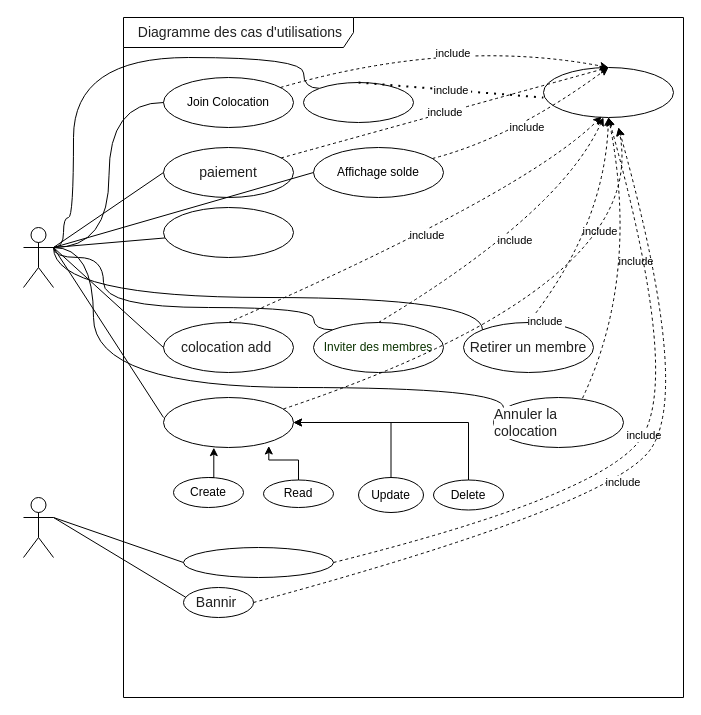
Image size: 701x715. Some labels were removed from this diagram. The centre of each missing label's shape, as x and y in pixels:
"add solde" goes at [358,102].
"Auth" goes at [608,92].
"Global Admin" goes at [38,527].
"Gérer les catégories" goes at [228,422].
"Quitter une colocation" goes at [228,232].
"statistiques" goes at [258,562].
"user" goes at [38,257].
